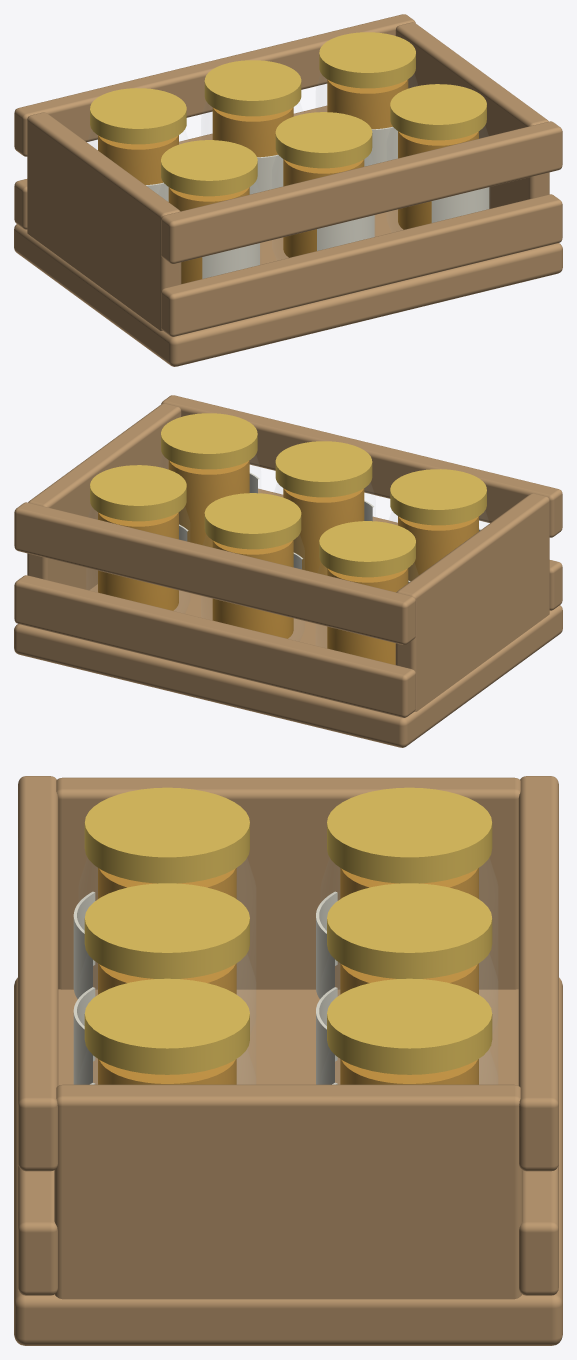
File: beekeeping-and-honey-farm-jar-crate-7b074f83__30736.glb
3 views of the same model, one above another, from view 1: azimuth 30°, elevation 25°; view 2: azimuth 150°, elevation 25°; view 3: azimuth 270°, elevation 25° (orthographic). The views are drawn at different scales.
Parts seen in each view (by area): view 1: jar-crate; view 2: jar-crate; view 3: jar-crate.
Boxes of the visible parts, x1,y1,x2,y2 form: jar-crate: [14, 14, 562, 366]; jar-crate: [14, 395, 562, 747]; jar-crate: [14, 776, 562, 1345].
Bounding box in the file's own units: 0.48 × 0.183 × 0.34.
